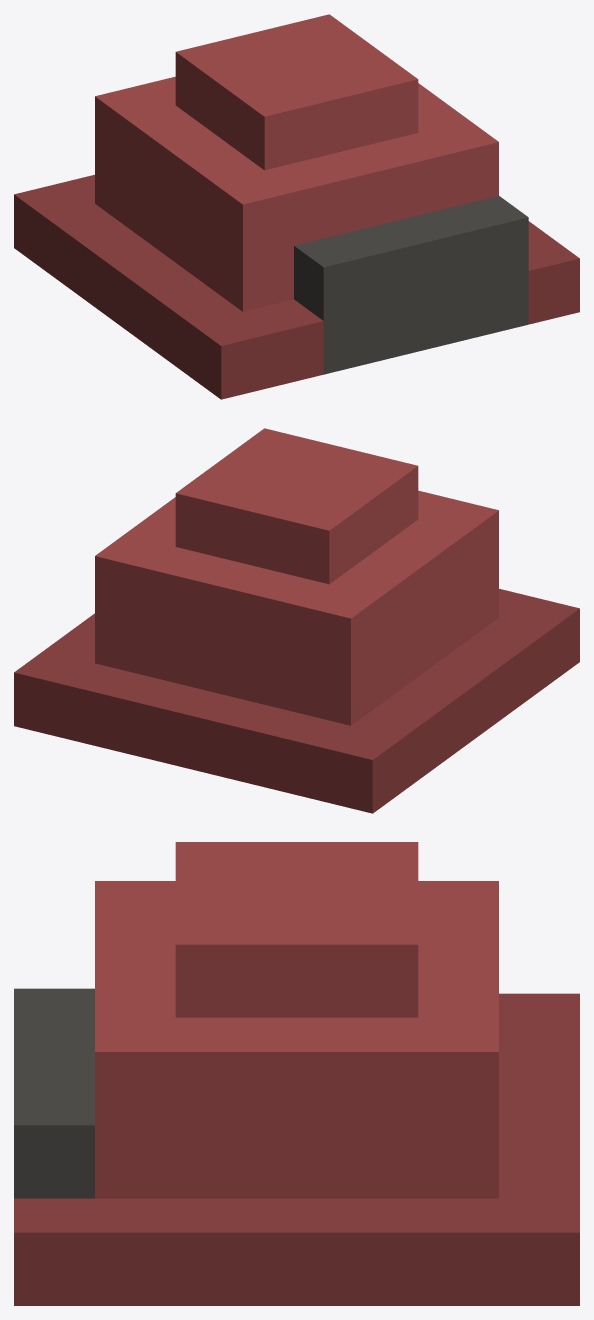
Rendered from legendario_casco_bandido_01.glb.
3 renders of one model, top to bottom at view 1: azimuth 30°, elevation 25°; view 2: azimuth 150°, elevation 25°; view 3: azimuth 270°, elevation 25°, orthographic. The views are drawn at different scales.
Parts seen in each view (by area): view 1: legendario_casco_bandido; view 2: legendario_casco_bandido; view 3: legendario_casco_bandido.
Boxes of the visible parts, x1,y1,x2,y2 form: legendario_casco_bandido: (14, 14, 579, 399); legendario_casco_bandido: (14, 428, 579, 813); legendario_casco_bandido: (14, 842, 579, 1305).
Bounding box in the file's own units: 0.5833 × 0.3333 × 0.5833.
